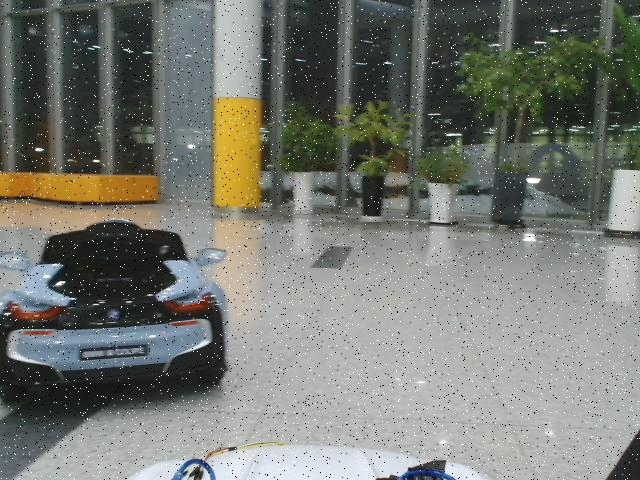car: (1, 219, 228, 399)
